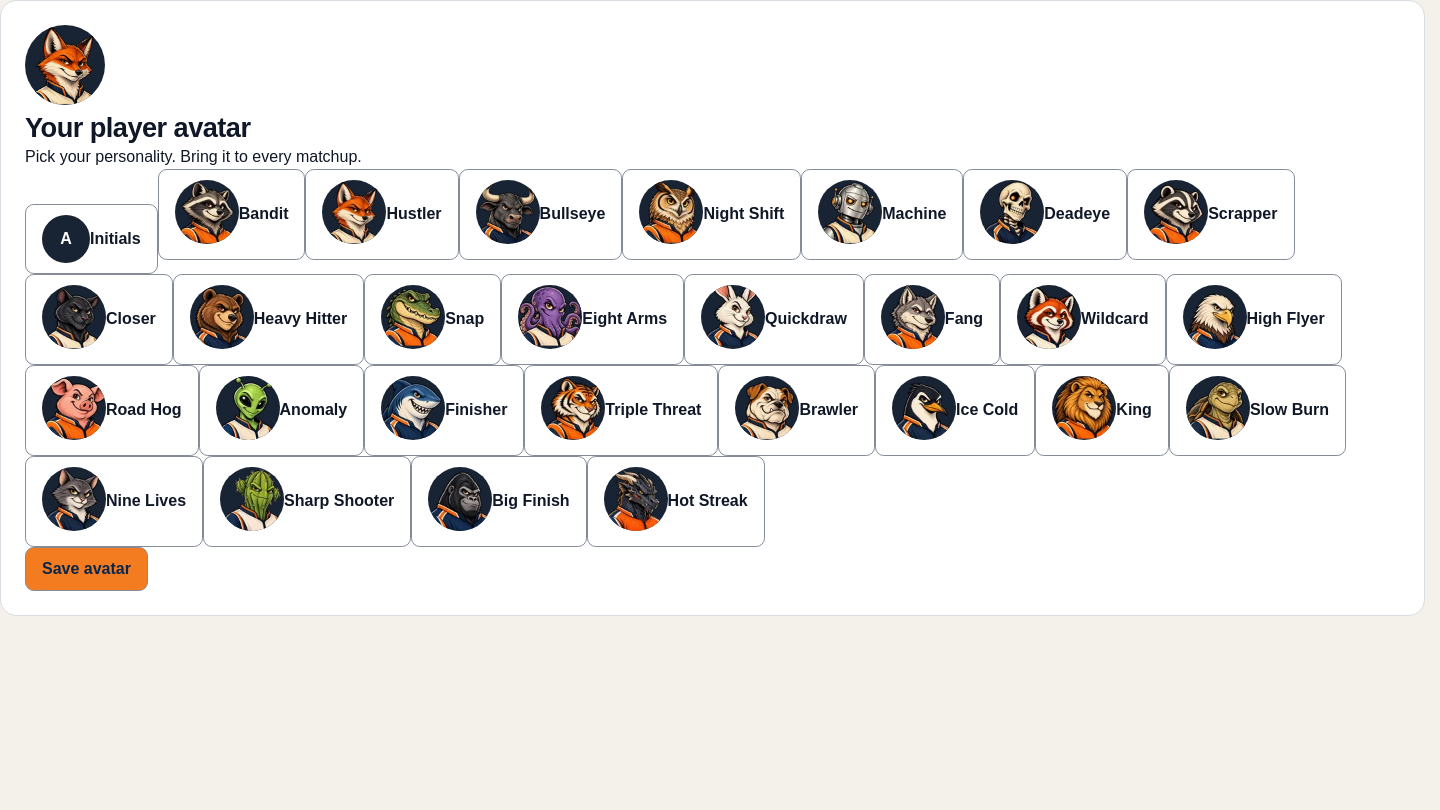
Test: saves the new dragon choice using its stable ID
Click the button "Hot Streak" at (676, 501), box [587,456,765,547]
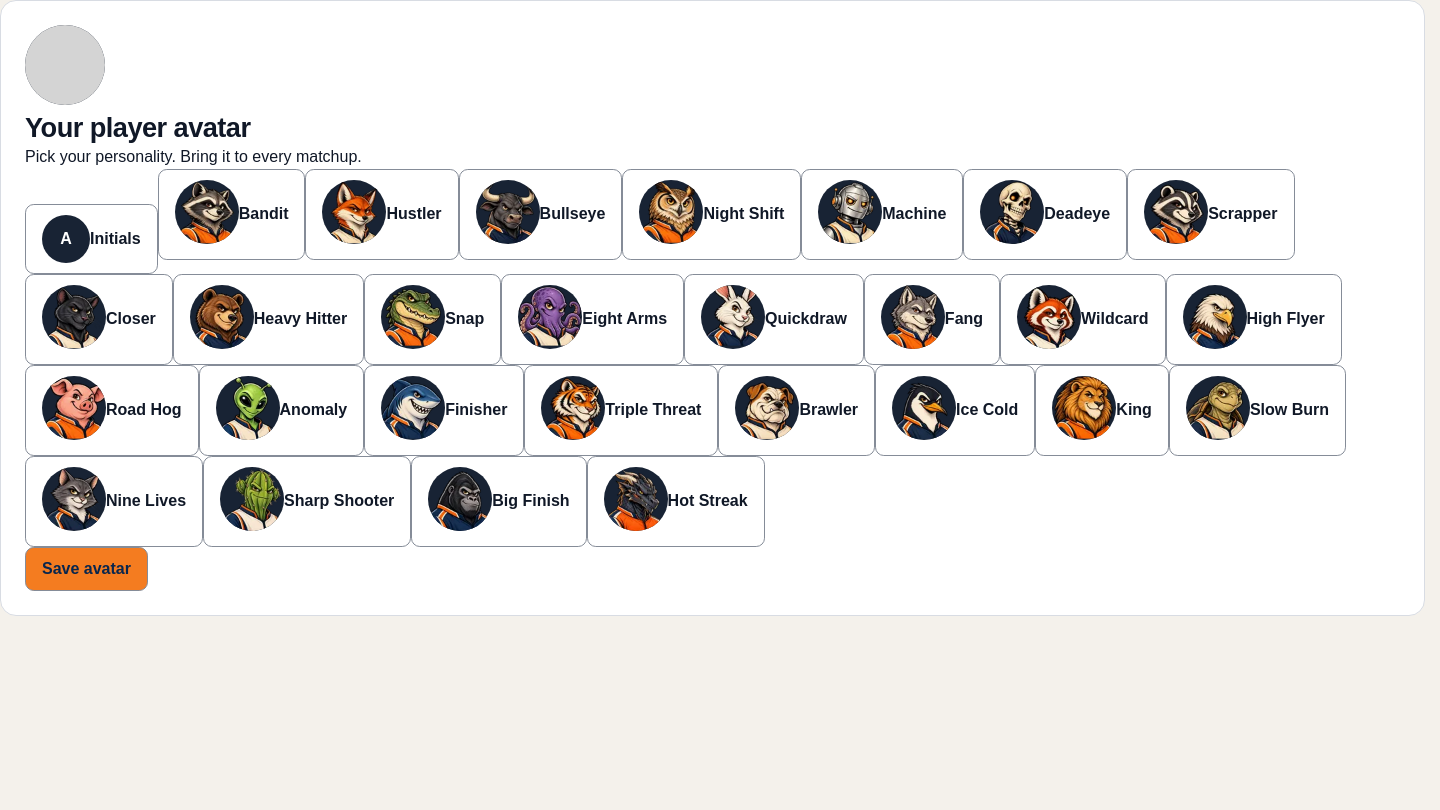
Click the button "Save avatar" at (86, 569), box [25,547,148,591]
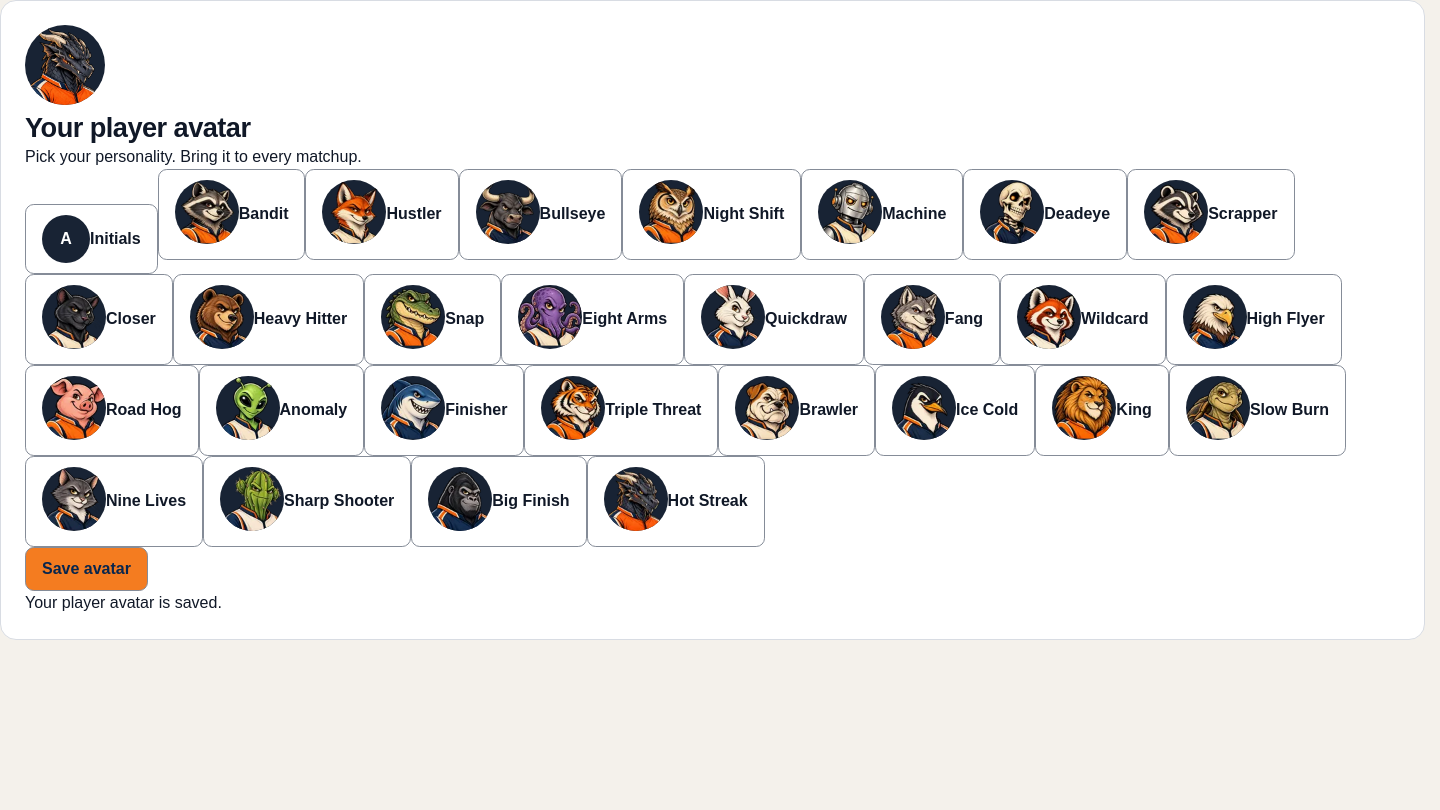
Check: the text "Your player avatar is saved." is shown, box [25,594,222,611]
